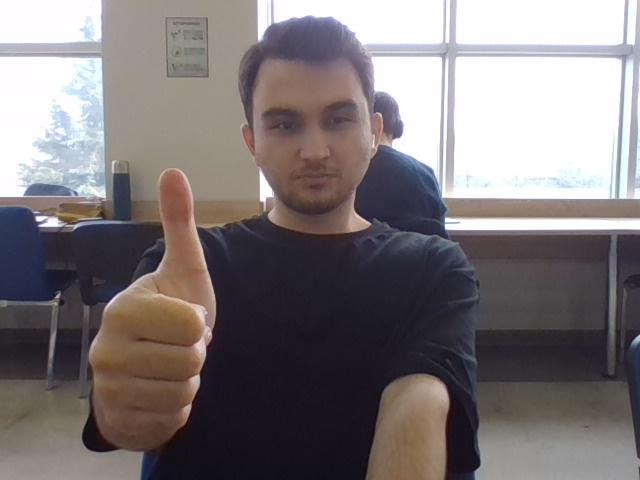thumbsup: (86, 167, 218, 451)
